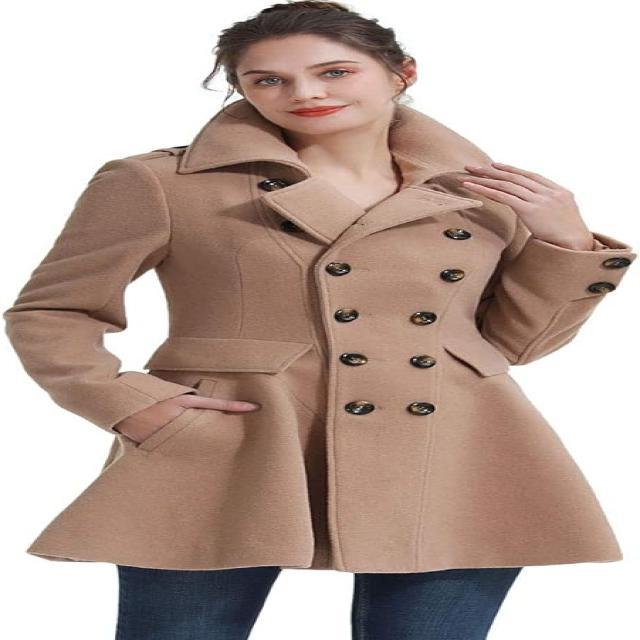coat: (4, 93, 640, 574)
trousers: (103, 555, 529, 640)
